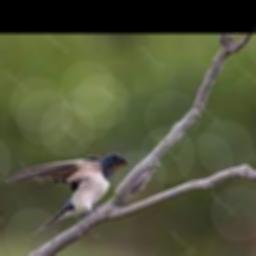Swallow: (5, 152, 133, 235)
